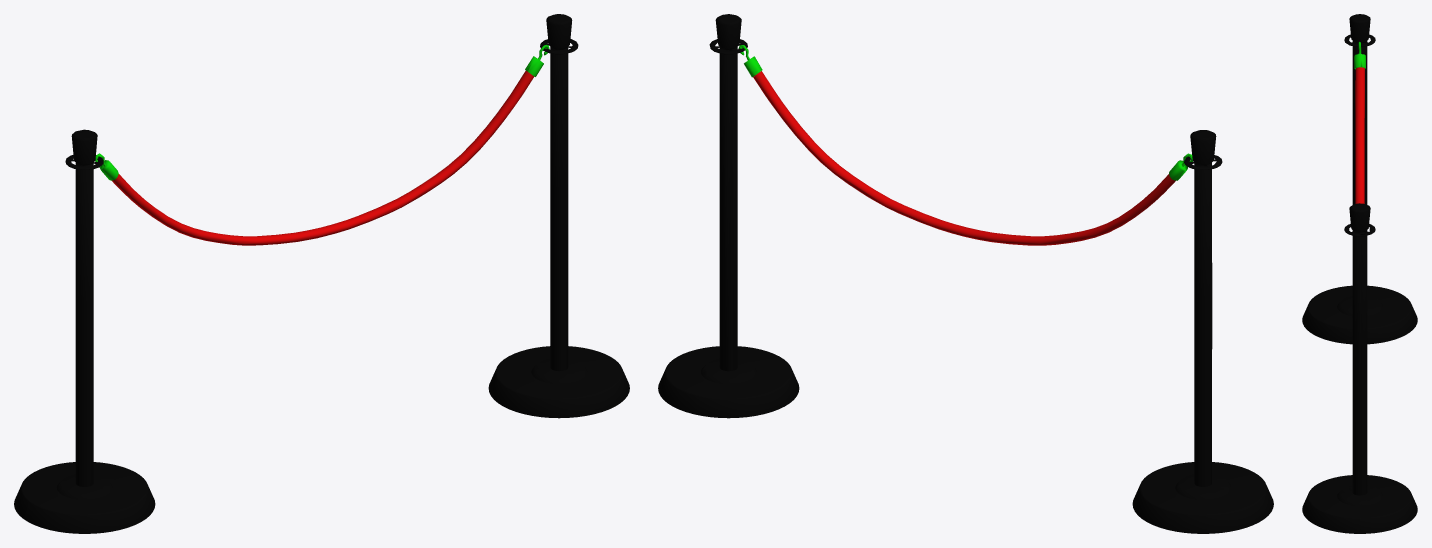
The model's file is SM_VelvetRope.fbx.
The picture shows the model from 3 angles, left to right: view 1: azimuth 30°, elevation 25°; view 2: azimuth 150°, elevation 25°; view 3: azimuth 270°, elevation 25°; orthographic projection. The views are drawn at different scales.
Visible parts, largest first — view 1: SM_VelvetRope_M_fbx; view 2: SM_VelvetRope_M_fbx; view 3: SM_VelvetRope_M_fbx.
Part boxes in pixels (left/top/right/bottom): SM_VelvetRope_M_fbx: left=14, top=14, right=629, bottom=533; SM_VelvetRope_M_fbx: left=658, top=14, right=1273, bottom=533; SM_VelvetRope_M_fbx: left=1302, top=14, right=1417, bottom=533.
Bounding box in the file's own units: 1.5 × 0.8903 × 0.3079.
